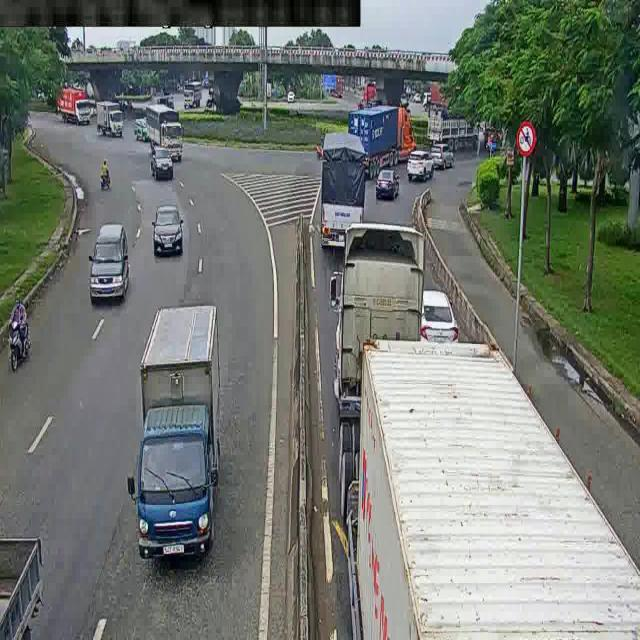car: (83, 224, 133, 302), (414, 286, 456, 346), (408, 149, 449, 189), (158, 206, 188, 251), (143, 147, 172, 182), (371, 166, 394, 196), (432, 141, 455, 166)
motorbike: (3, 295, 43, 368), (92, 157, 122, 194)
truck: (321, 217, 640, 640), (143, 297, 223, 584), (317, 124, 375, 257), (335, 98, 437, 172), (424, 87, 496, 148), (147, 106, 190, 159), (91, 98, 130, 149), (54, 86, 88, 122), (180, 80, 206, 110)
